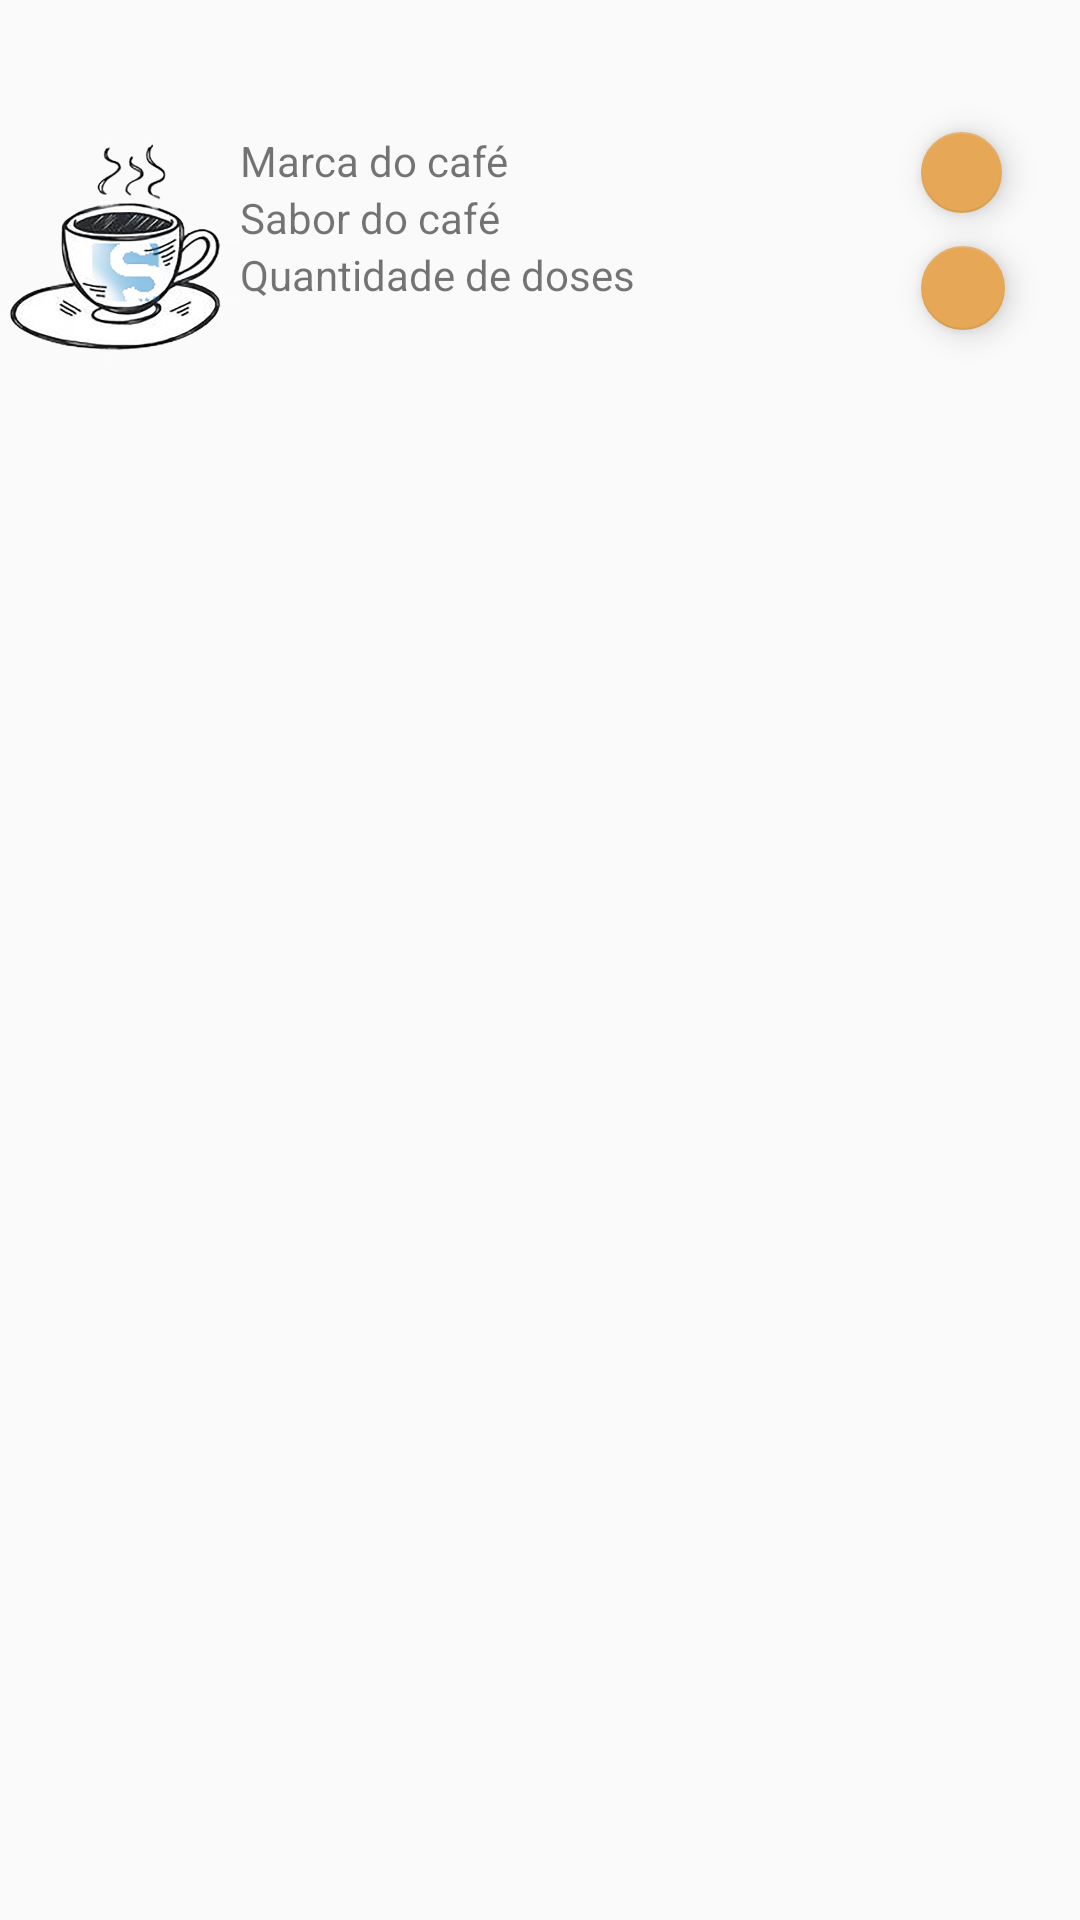

Screen size 1080 × 1920. Icon name, then its center in pixels as point (x, y):
coffee: point (115, 247)
